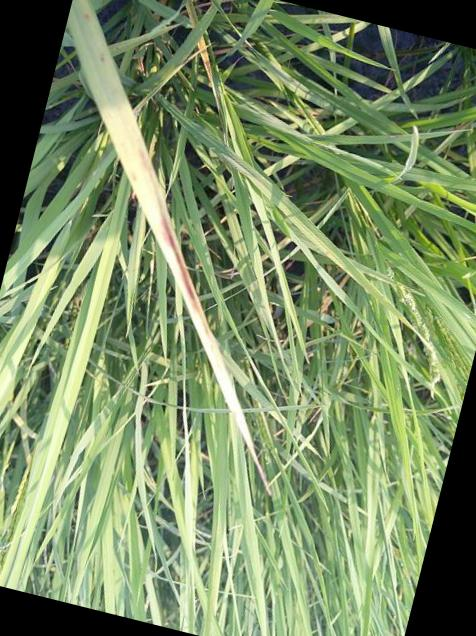Leaf Blight: (147, 216, 248, 436)
